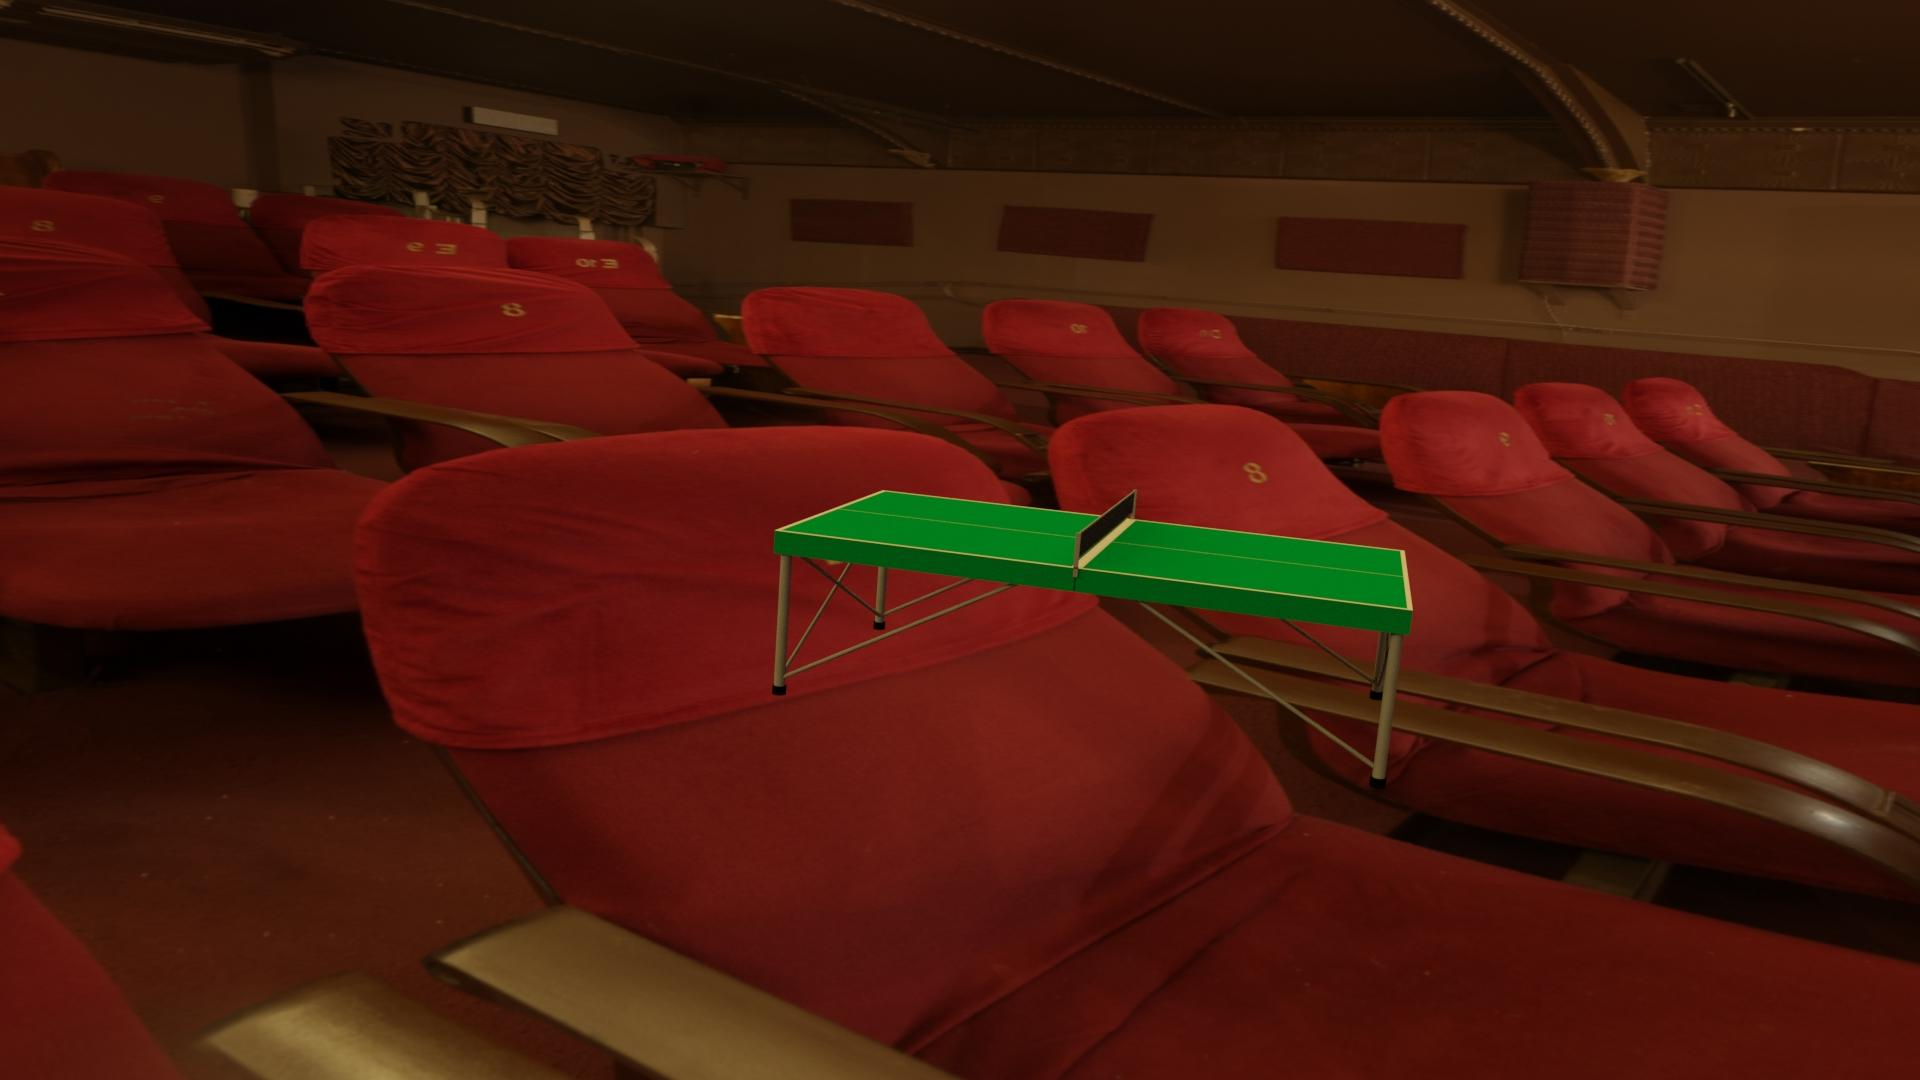table: (781, 491, 1407, 609)
